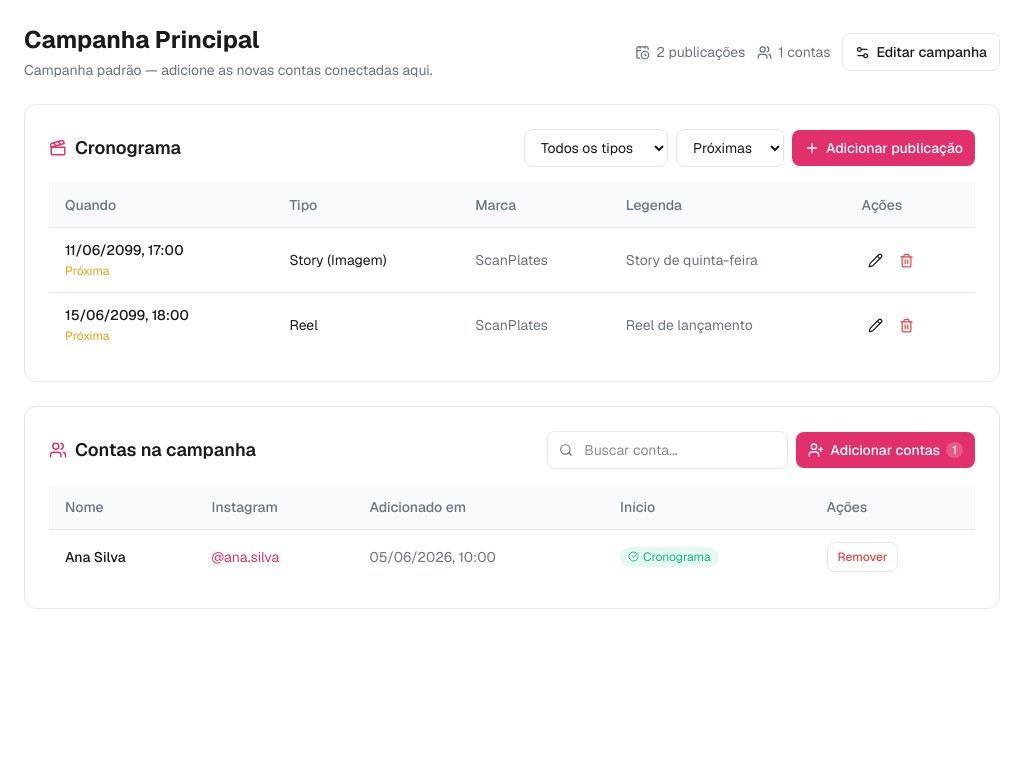
Scenario: AdminCampaign › reveals caption, collaborators and first comment when the type is feed
Click the button "Adicionar publicação". click: x=884, y=148
box: left=792, top=130, right=975, bottom=166
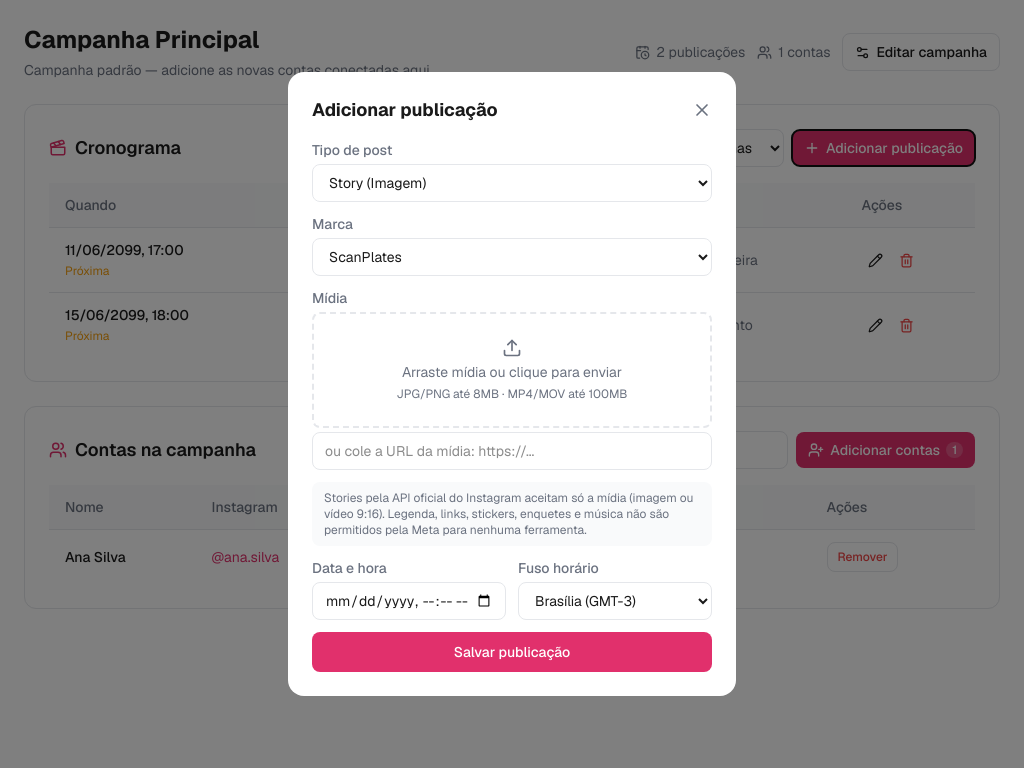
Select "Feed" in the dropdown labelled "Tipo de post". click: x=512, y=183
box: left=312, top=164, right=712, bottom=202
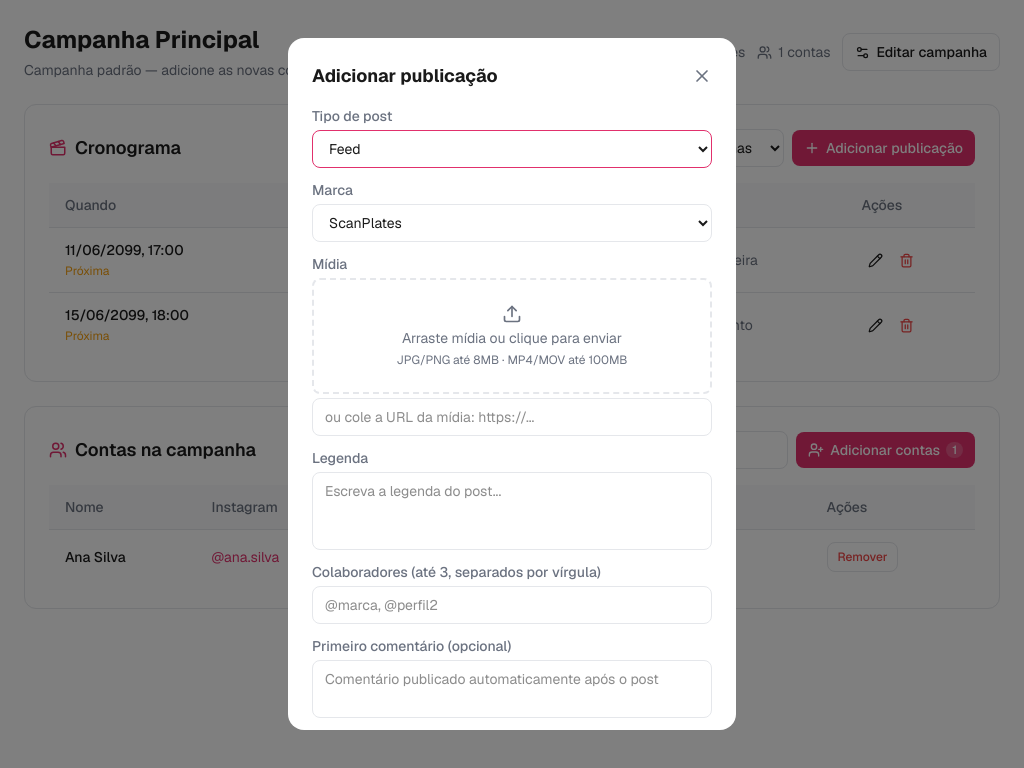
Result: the text box labelled "Legenda" is shown at left=312, top=472, right=712, bottom=550
Result: the field labelled "Colaboradores (até 3, separados por vírgula)" is shown at left=312, top=586, right=712, bottom=624
Result: the text box labelled "Primeiro comentário (opcional)" is shown at left=312, top=660, right=712, bottom=718
Select "Reel" in the dropdown labelled "Tipo de post". click: x=512, y=149
box: left=312, top=130, right=712, bottom=168
(page scrolled)
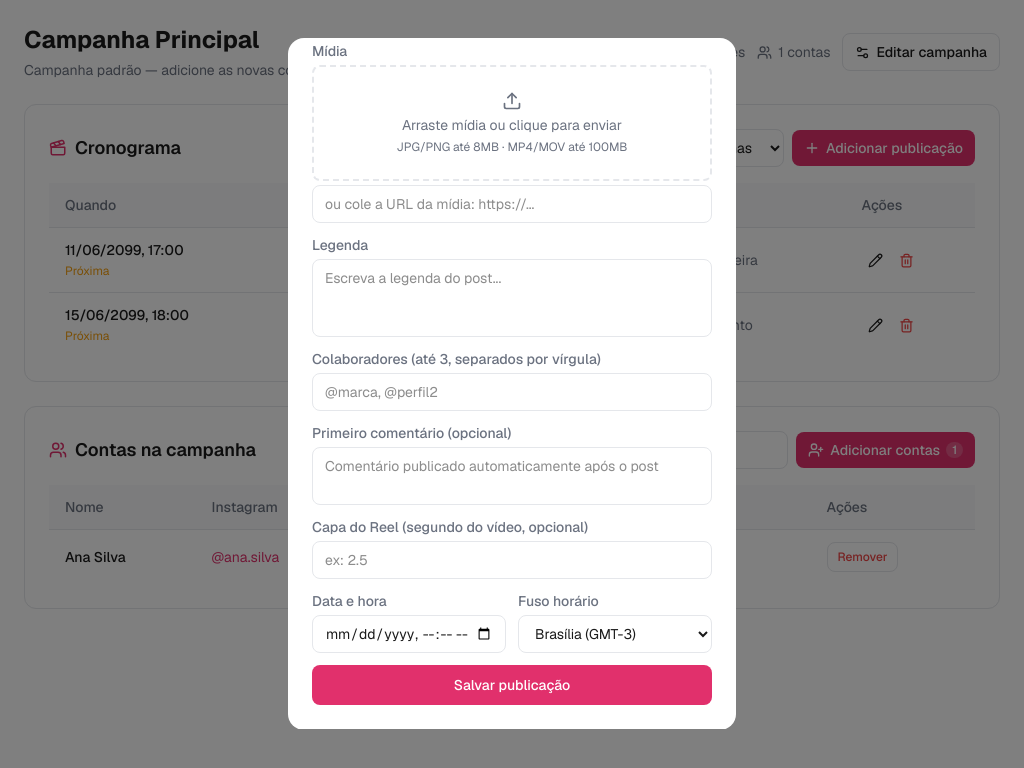
Result: the number field labelled "Capa do Reel (segundo do vídeo, opcional)" is shown at left=312, top=541, right=712, bottom=579
